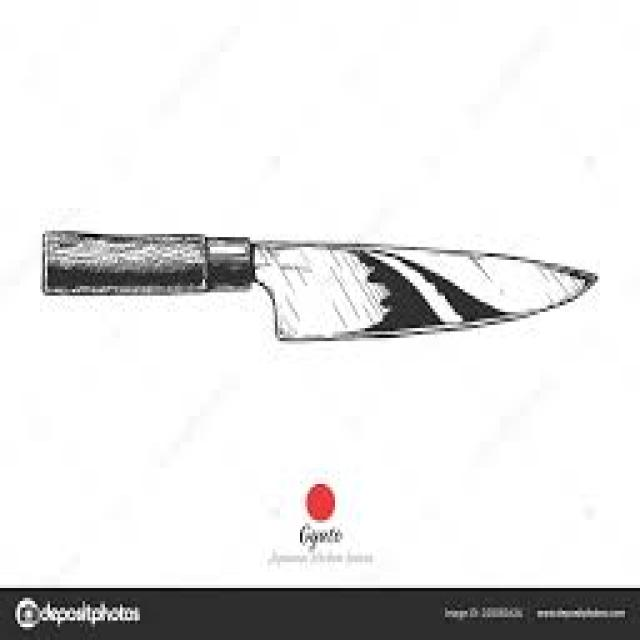Knife: (40, 228, 598, 341)
